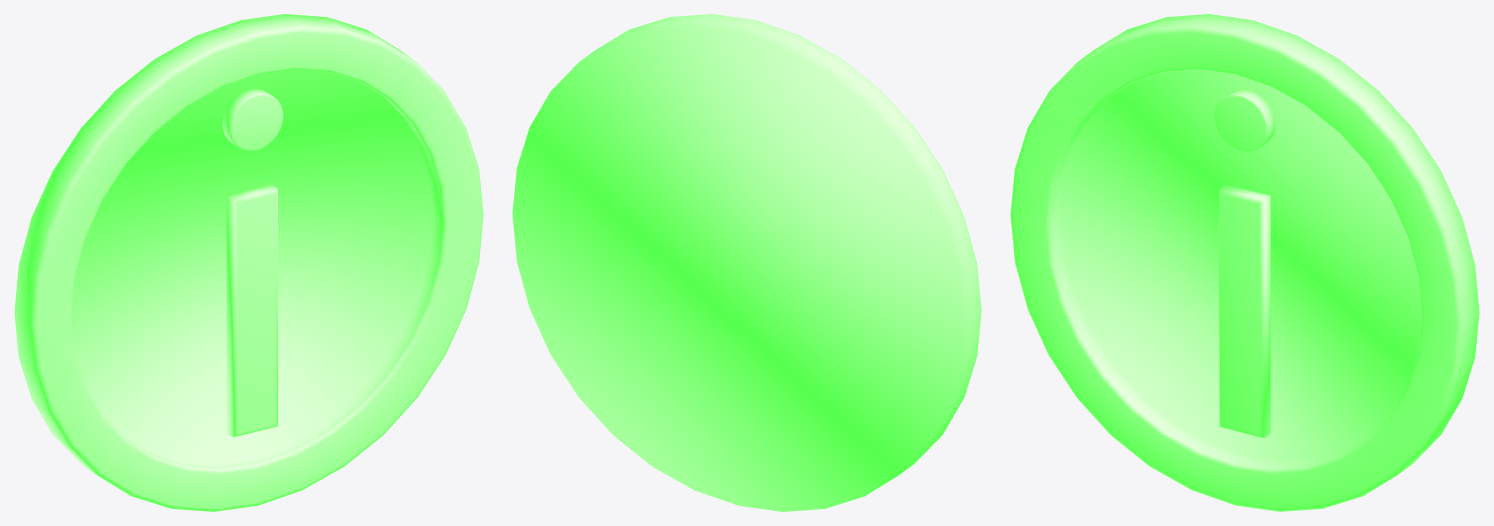
3 renders of one model, left to right at view 1: azimuth 30°, elevation 25°; view 2: azimuth 150°, elevation 25°; view 3: azimuth 330°, elevation 25°, orthographic.
Parts seen in each view (by area): view 1: P3; view 2: P3; view 3: P3.
Boxes of the visible parts, x1,y1,x2,y2 form: P3: (14, 14, 483, 511); P3: (512, 14, 981, 511); P3: (1010, 14, 1479, 511).
Bounding box in the file's own units: 0.925 × 0.925 × 0.0653.
